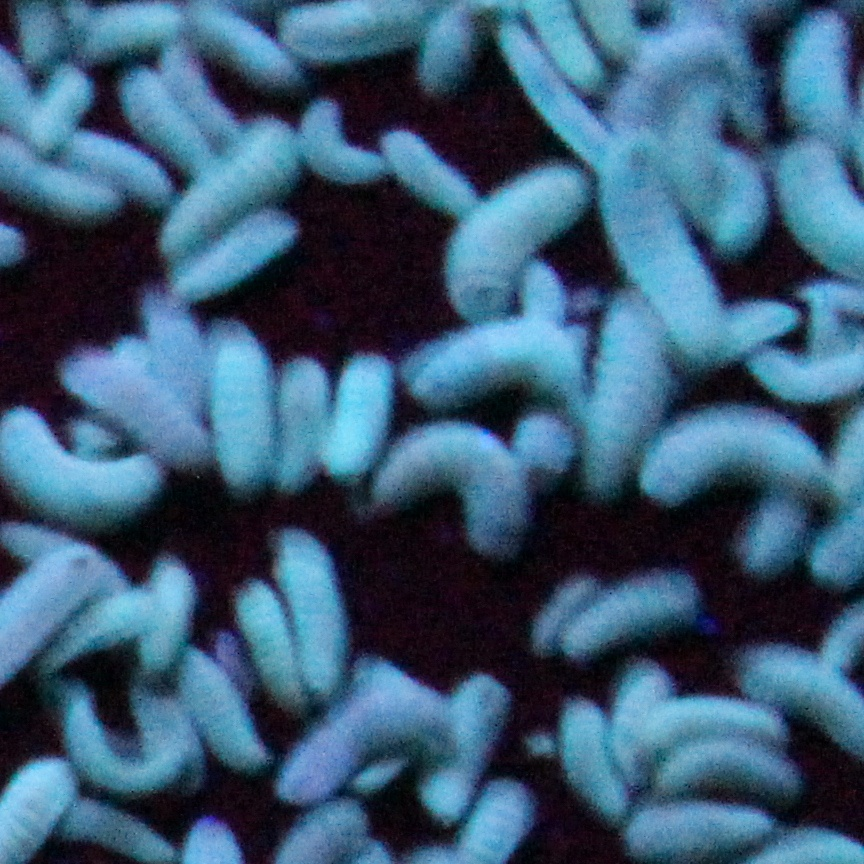larve: (596, 128, 737, 358), (639, 387, 833, 513), (373, 413, 533, 562), (453, 144, 580, 303), (398, 303, 588, 409), (264, 515, 362, 704), (196, 320, 282, 506), (560, 562, 707, 665), (167, 194, 307, 301), (423, 672, 523, 814), (370, 113, 487, 226), (229, 572, 316, 712), (325, 350, 402, 486), (118, 69, 206, 169), (301, 100, 392, 195), (138, 557, 193, 683)
